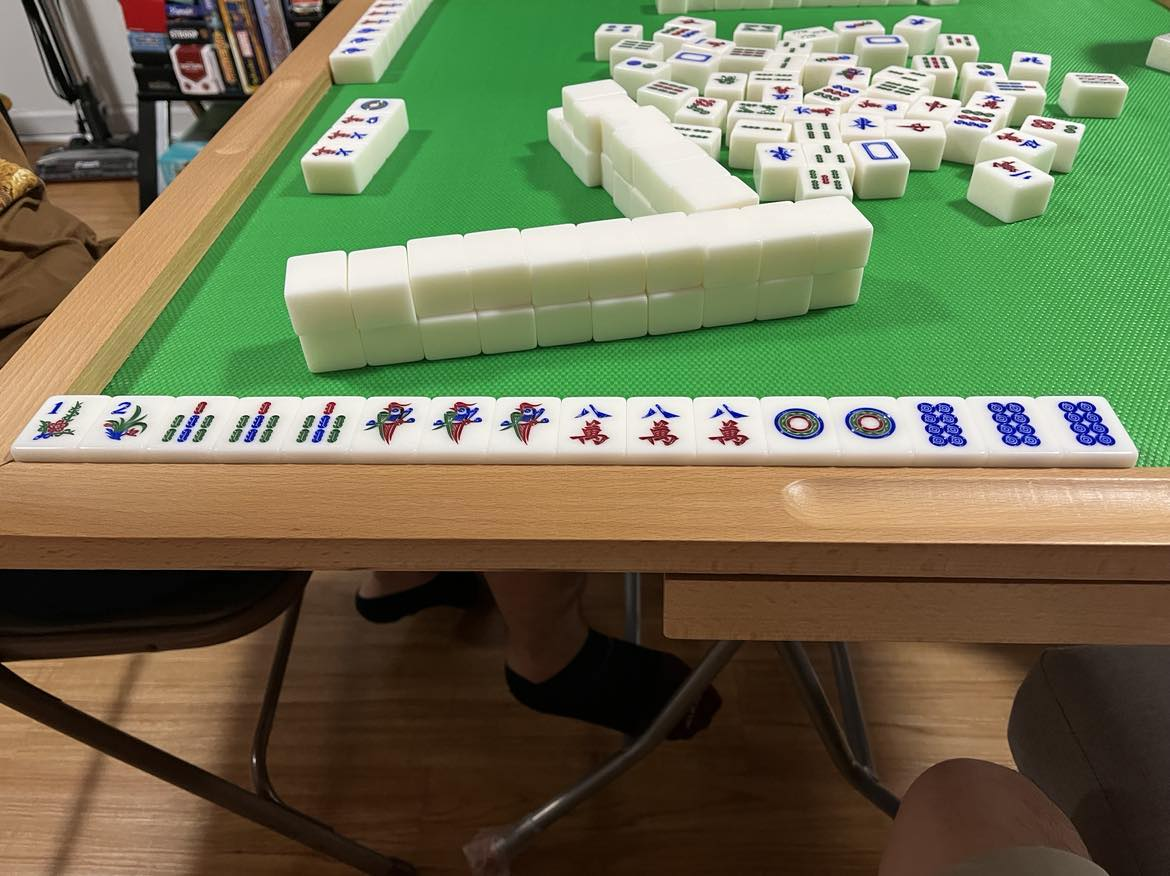bamboo-one: (498, 398, 556, 459), (429, 398, 487, 454), (365, 399, 420, 453)
bamboo-seven: (293, 398, 352, 453), (226, 397, 286, 451), (161, 397, 218, 450)
character-eight: (699, 399, 756, 457), (565, 401, 619, 454), (634, 398, 684, 455)
circle-eight: (981, 397, 1045, 454), (909, 398, 972, 455), (1058, 398, 1119, 452)
circle-one: (838, 398, 902, 455), (767, 397, 829, 455)
flower-blue_one: (33, 395, 88, 450)
flower-blue_two: (99, 395, 153, 453)
